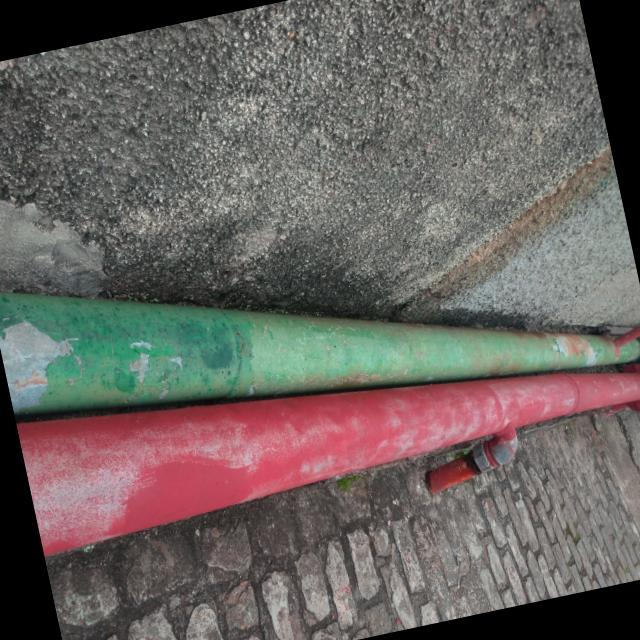gas: (15, 369, 640, 555), (0, 294, 640, 412), (424, 427, 519, 493)
